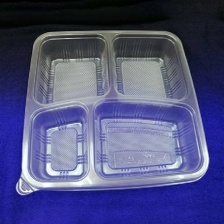plastic_box: (8, 21, 214, 202)
